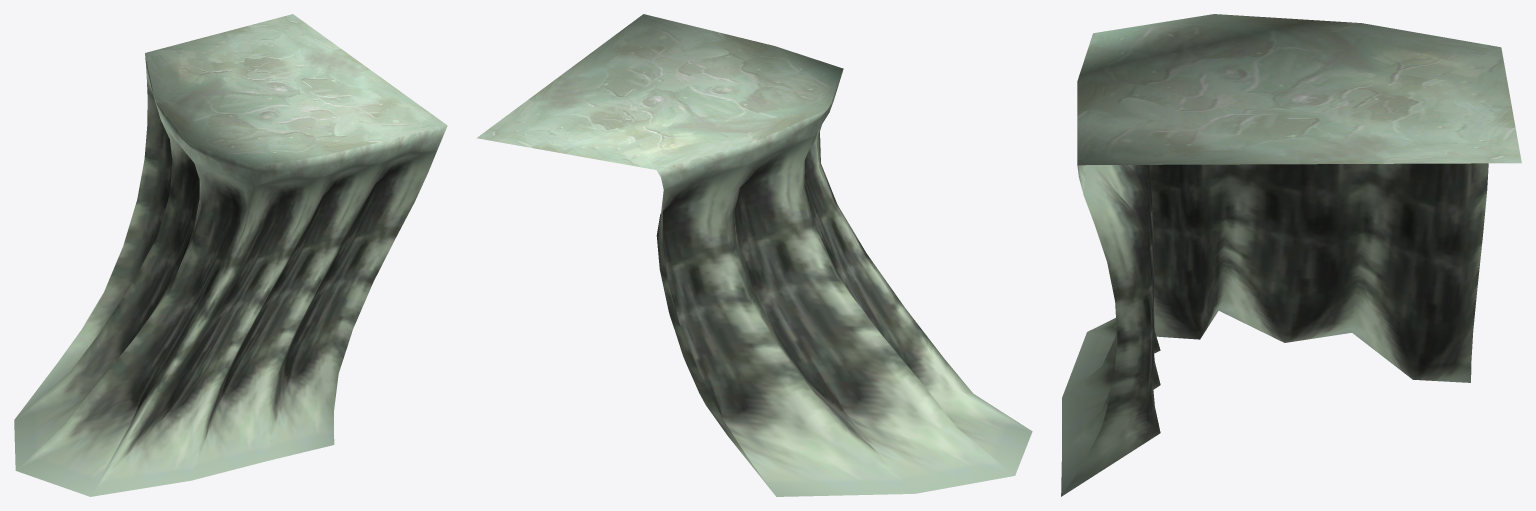
File: TROLLHOLE02_MAINCAVEPLATFORM03.fbx
3 views of the same model, side by side, from view 1: azimuth 30°, elevation 25°; view 2: azimuth 150°, elevation 25°; view 3: azimuth 270°, elevation 25° (orthographic). The views are drawn at different scales.
Parts seen in each view (by area): view 1: TROLLHOLE02_MAINCAVEPLATFORM03; view 2: TROLLHOLE02_MAINCAVEPLATFORM03; view 3: TROLLHOLE02_MAINCAVEPLATFORM03.
Part boxes in pixels (box(x1,y1,x2,y2)): TROLLHOLE02_MAINCAVEPLATFORM03: box(14, 14, 447, 496); TROLLHOLE02_MAINCAVEPLATFORM03: box(476, 14, 1032, 496); TROLLHOLE02_MAINCAVEPLATFORM03: box(1061, 14, 1521, 496).
Bounding box in the file's own units: 41058 × 29841 × 29356.
Materials: 2 (2 with a texture image).
